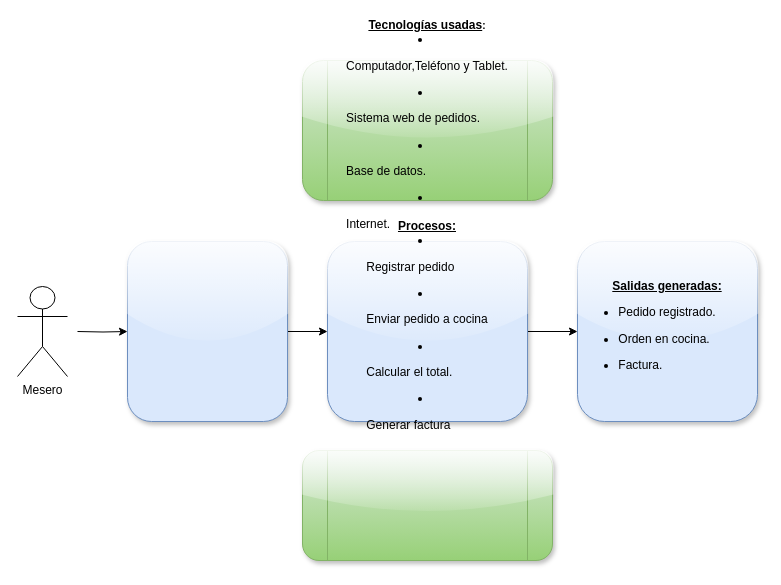
The diagram is 781 pixels wide and 585 high, and some of its shapes have lost their labels. The centre of each missing label's shape, as x and y in pixels:
Datos: Nombre. Cantidad. Pedido. Método de pago.: the point at 208,332
Área General Impactada : Operaciones. Finanzas.: the point at 428,507
